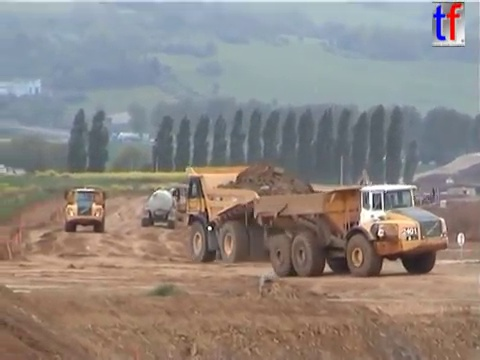truck: (249, 181, 451, 278), (171, 163, 347, 264), (61, 185, 110, 233), (140, 186, 179, 229)
